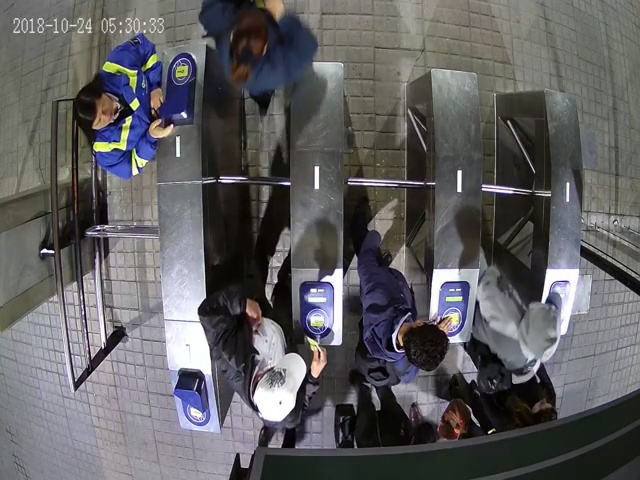Chaleco_azul: (74, 33, 175, 180)
